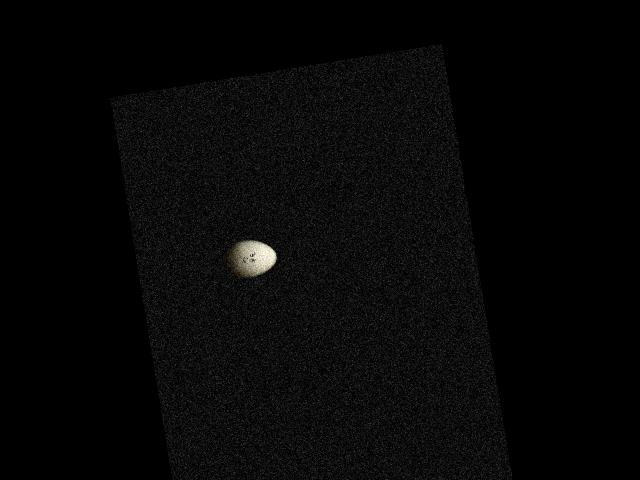egg: (224, 235, 279, 280)
